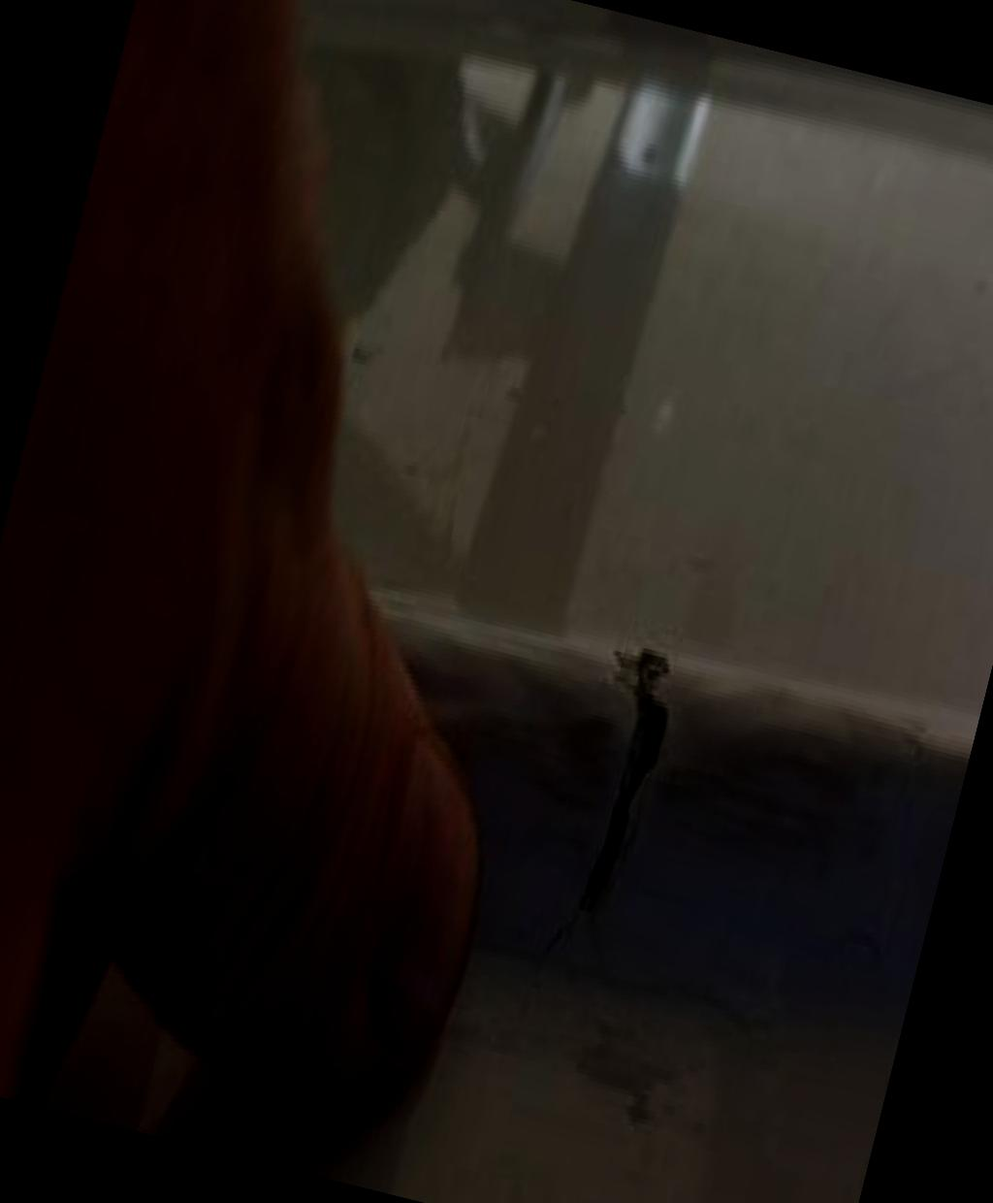crack: (565, 649, 680, 955)
